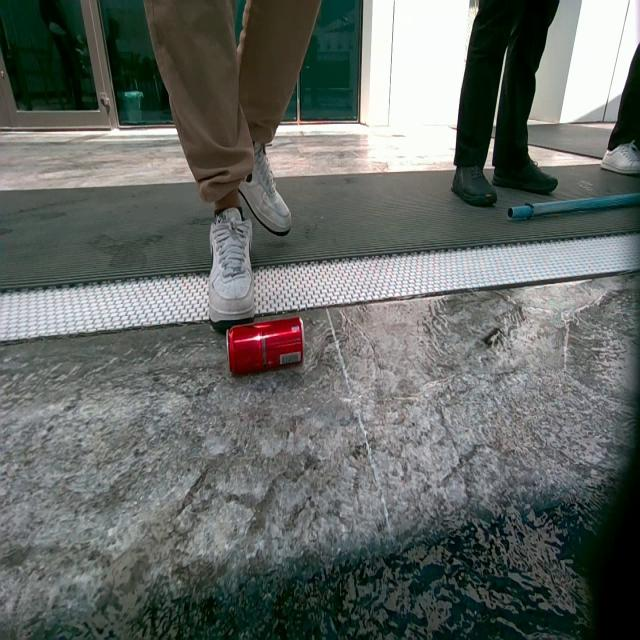Cans: (231, 322, 307, 380)
